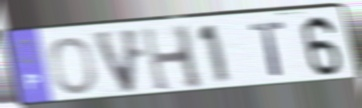1: (197, 23, 232, 86)
6: (299, 14, 344, 78)
H: (139, 24, 207, 94)
O: (48, 35, 99, 96)
T: (247, 19, 288, 78)
V: (89, 26, 142, 97)
